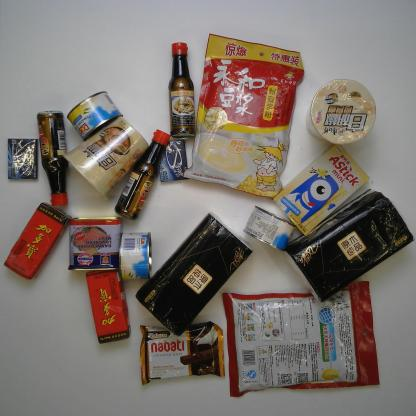Canned Food: (64, 88, 126, 145), (66, 213, 124, 273), (243, 203, 295, 254), (114, 230, 153, 283)
Dessert: (271, 139, 372, 237), (136, 322, 226, 386)
Drink: (2, 202, 73, 282), (84, 264, 132, 345)
Gum: (6, 136, 41, 181), (158, 137, 190, 183)
Instant Drink: (180, 35, 307, 201), (220, 279, 382, 400)
Instant Noodles: (60, 113, 150, 202), (306, 76, 379, 148)
Seasoner: (112, 127, 174, 221), (36, 109, 70, 208), (166, 40, 198, 139)
Tissue: (280, 187, 416, 305), (134, 208, 254, 337)
